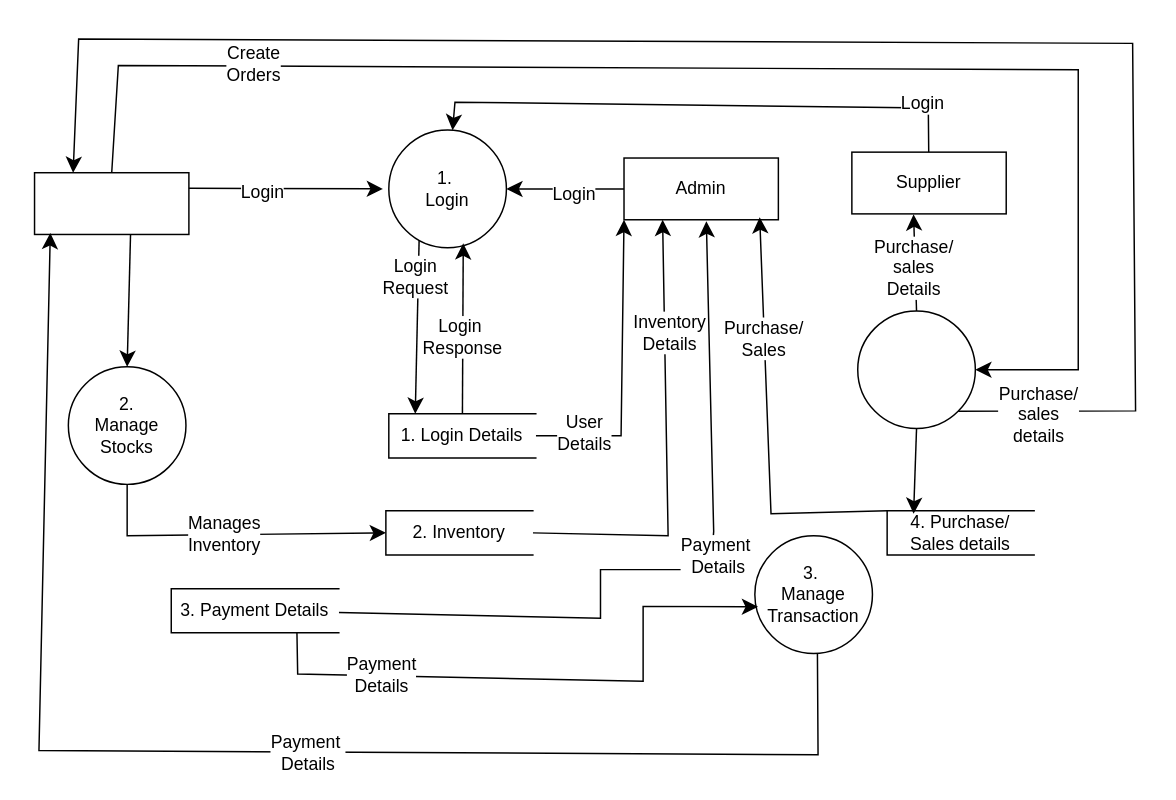
Image size: 1176x800. Some labels were removed from this diagram. The shapes that lost their labels are listed below. From the top down, each one's box as (x1, y1, x2, y2) in pixels, then its label:
(33, 171, 189, 234): Store Manager
(856, 309, 975, 429): 4. Purchase/ Sales Order
